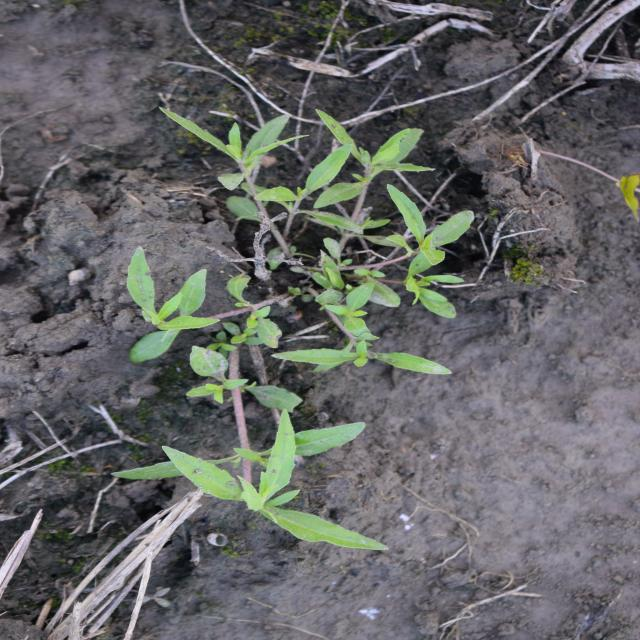Eclipta: (109, 105, 477, 553)
